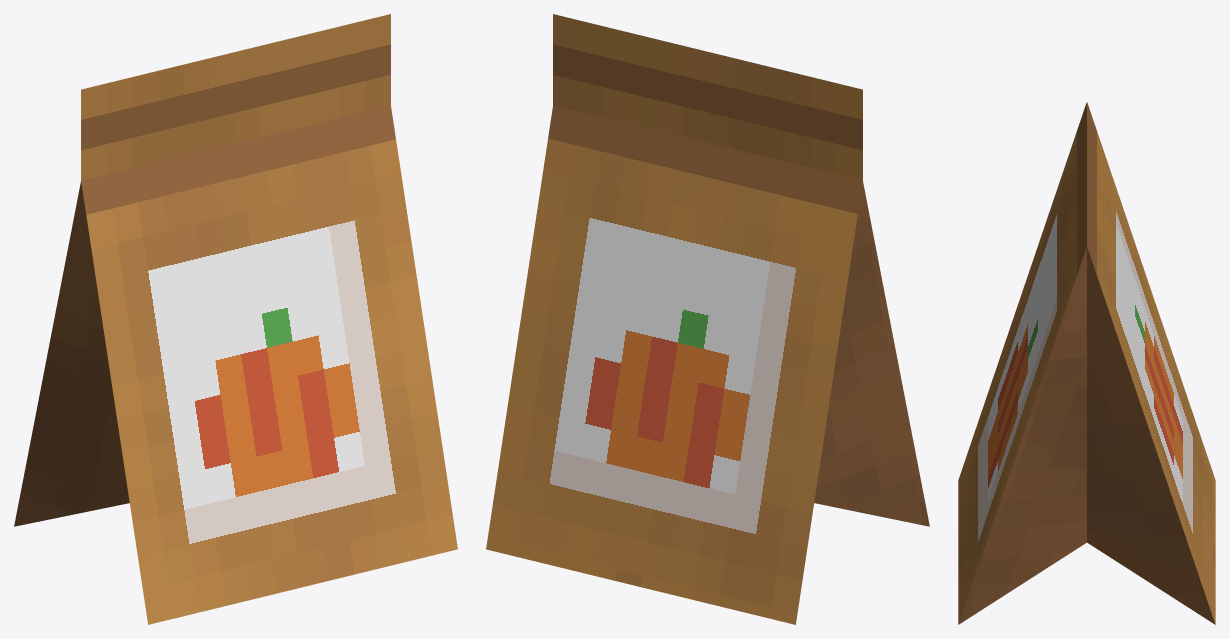
File: pumpkin_seeds-optimized.glb
3 renders of one model, left to right at view 1: azimuth 30°, elevation 25°; view 2: azimuth 150°, elevation 25°; view 3: azimuth 270°, elevation 25°, orthographic. The views are drawn at different scales.
Parts seen in each view (by area): view 1: cuboid; view 2: cuboid; view 3: cuboid.
Part boxes in pixels (bbox=[...]): cuboid: bbox=[14, 14, 457, 624]; cuboid: bbox=[486, 14, 929, 624]; cuboid: bbox=[958, 102, 1215, 624].
Bounding box in the file's own units: 0.5 × 0.75 × 0.375.
Materials: 1 (1 with a texture image).
